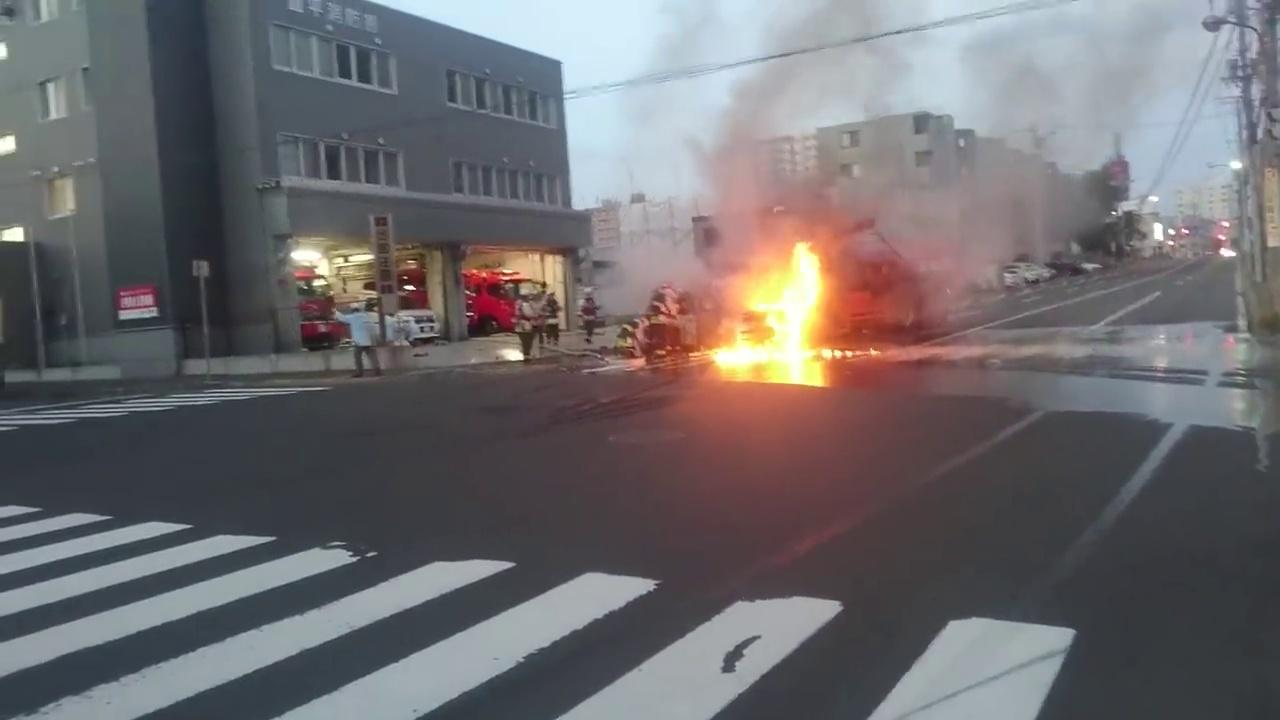Fire: (702, 243, 881, 364)
